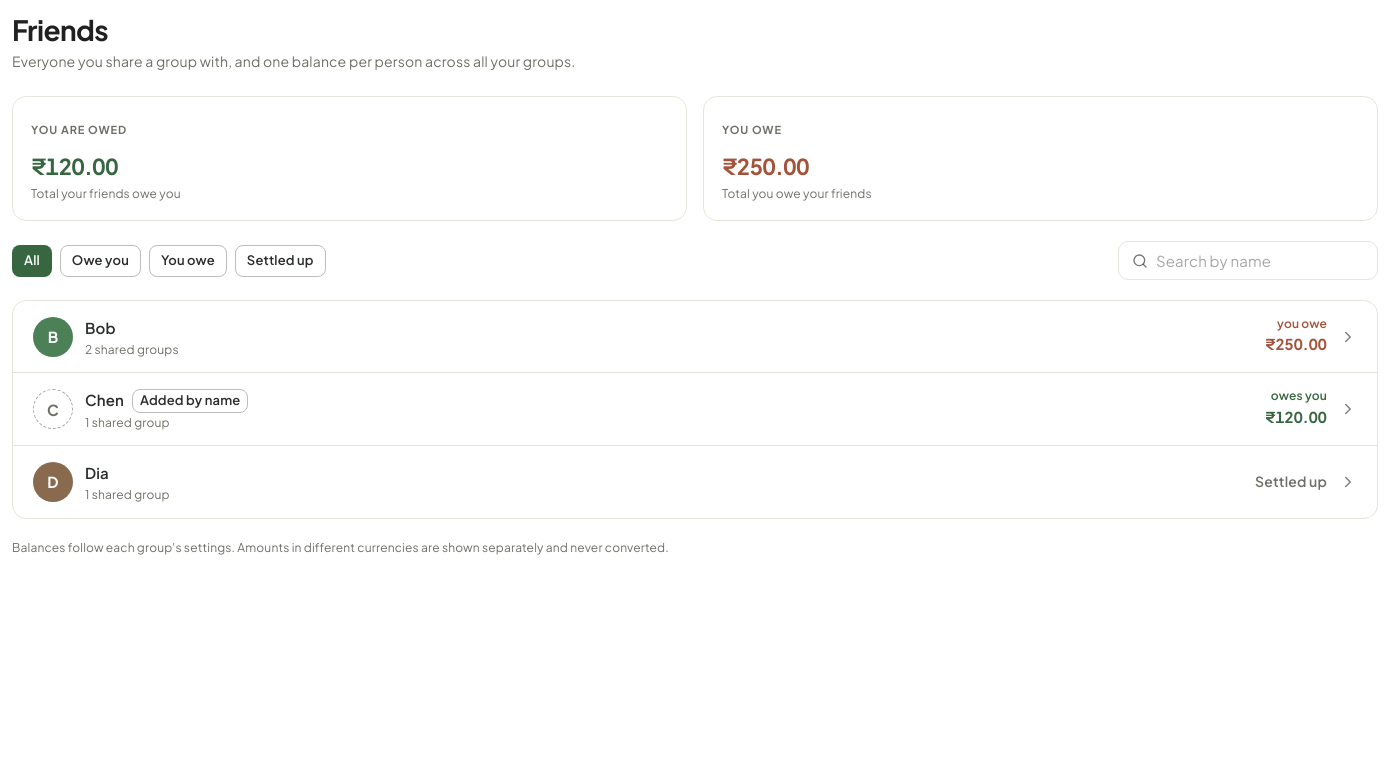
Test case: friends list › filters by balance direction and by name
The width and height of the screenshot is (1390, 780).
Click the button "Owe you" at coordinates (100, 260), box [60,244,141,276]
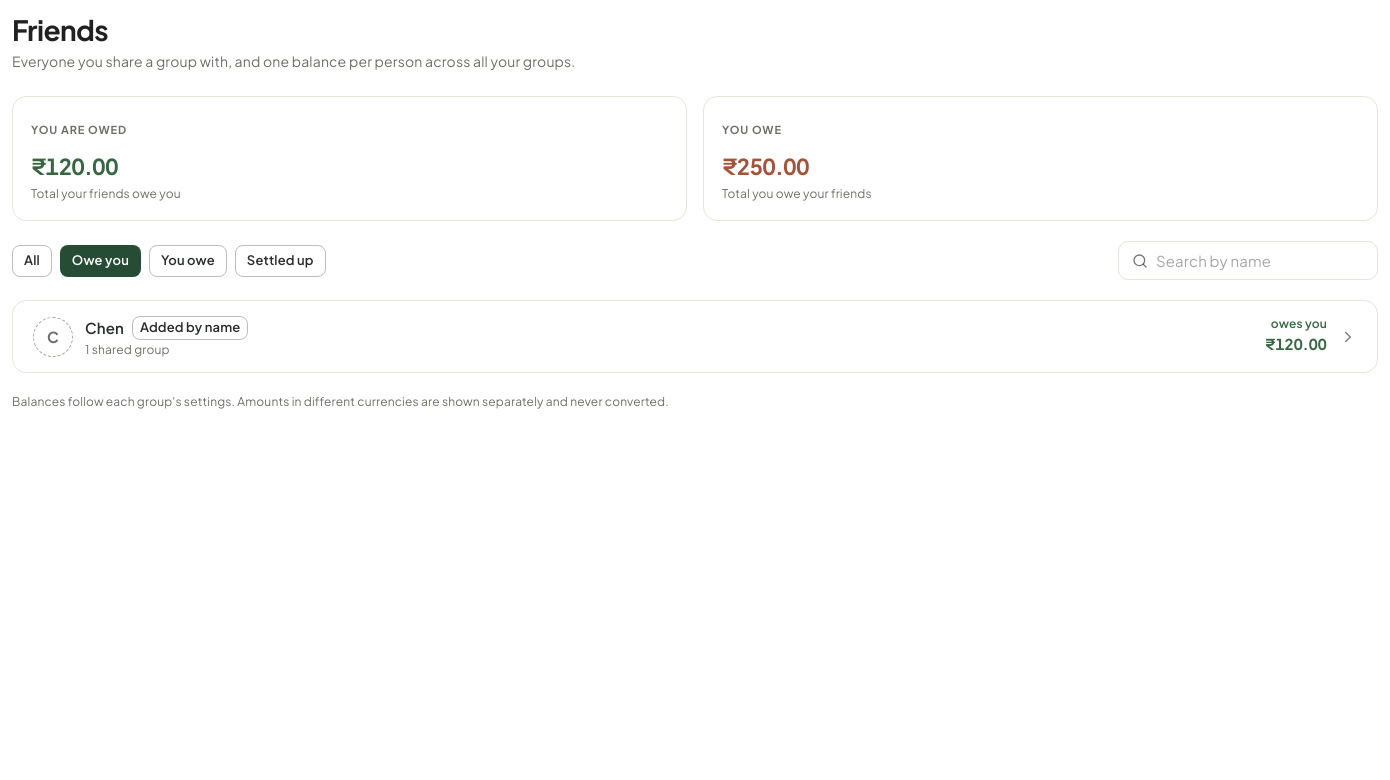
Click the button "Settled up" at coordinates (280, 260), box [235,244,326,276]
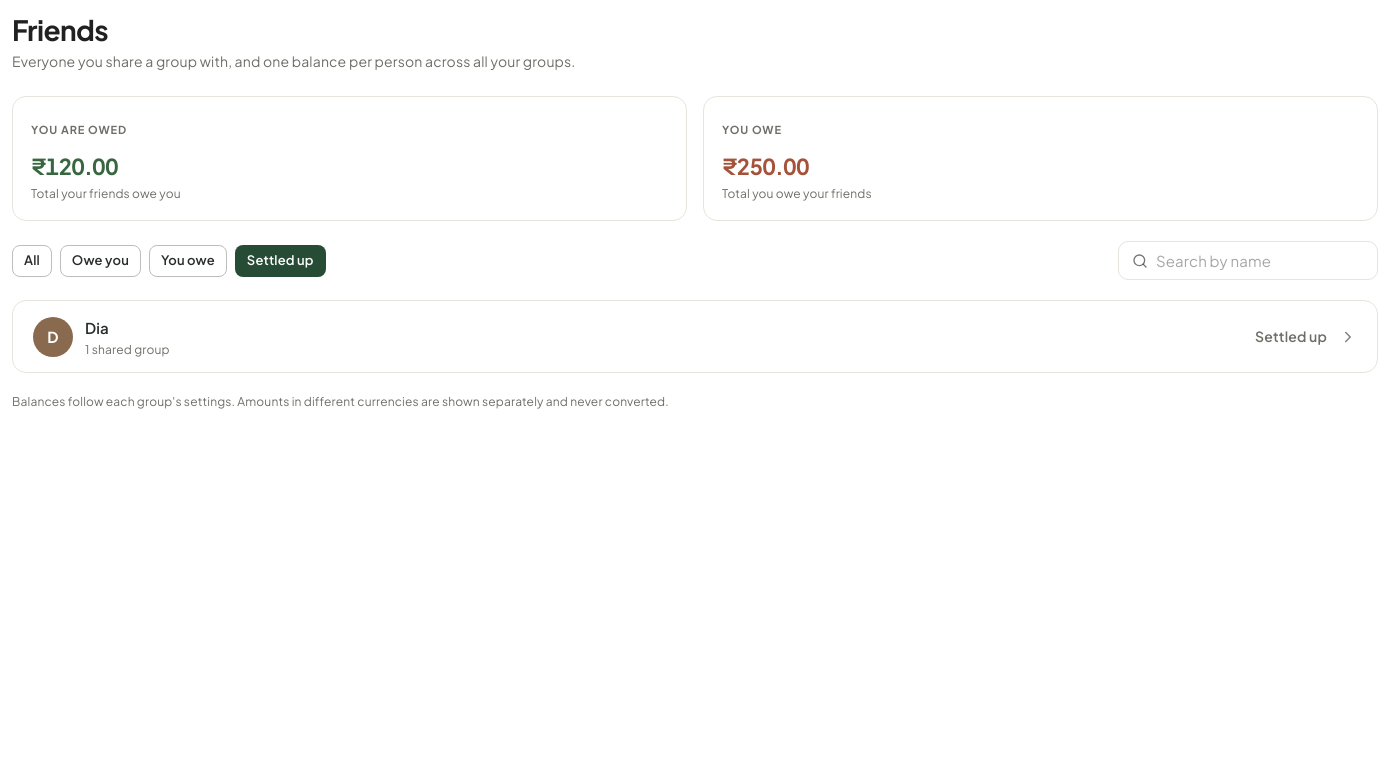
Expected: the number of links is 1, [33,317,1357,357]
Expected: the link shows "Dia", [33,317,1357,357]
Click the button "All" at coordinates (32, 260), box [12,244,52,276]
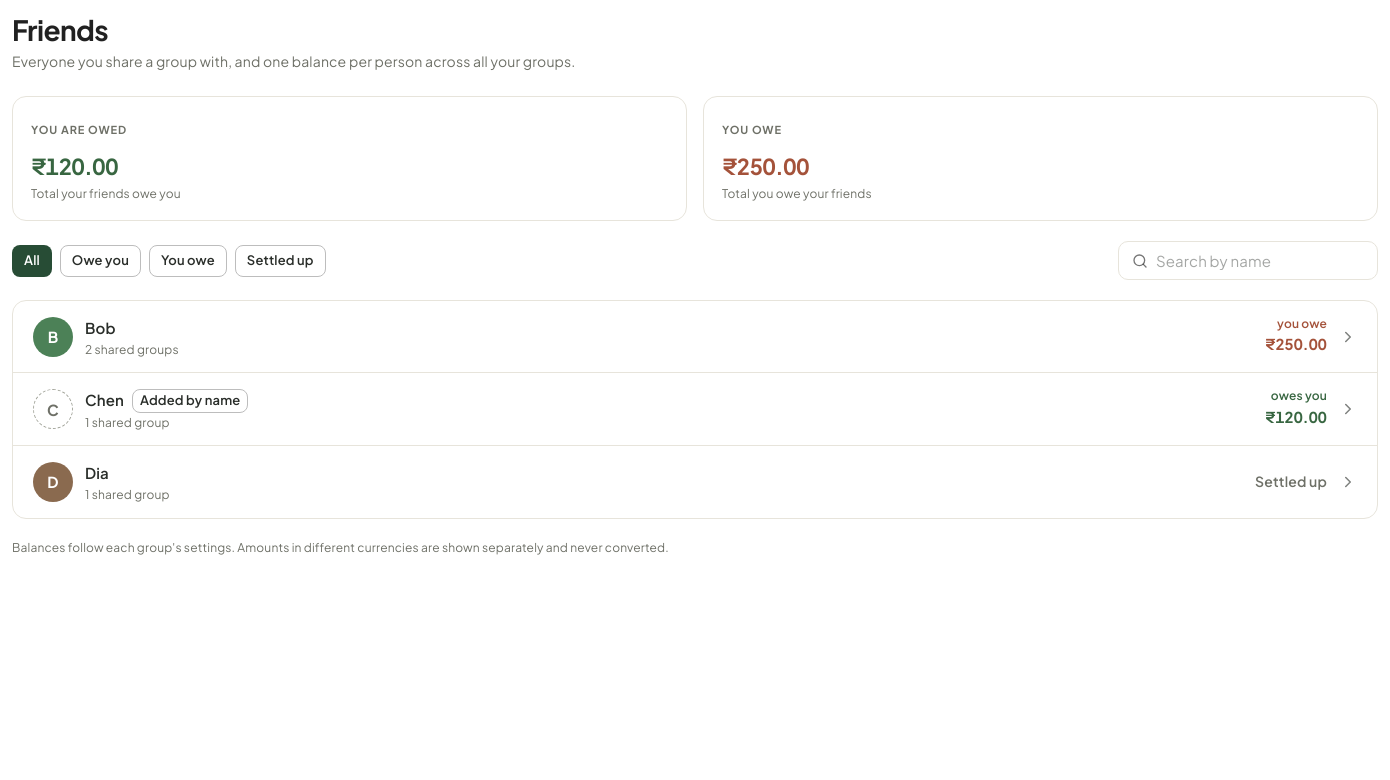
Type "bo" into the field named "Search friends by name" at coordinates (1267, 260), box [1156,241,1378,280]
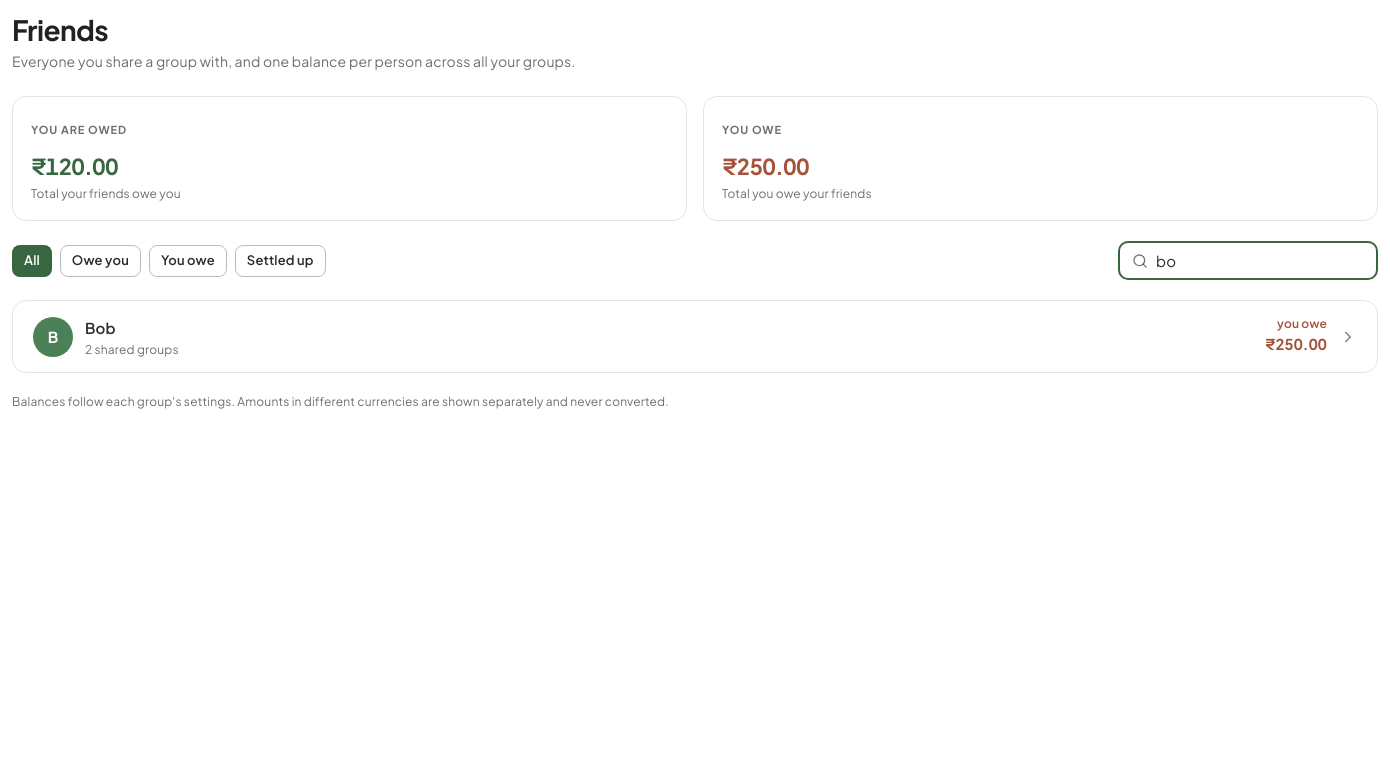
Expected: the link shows "Bob", [33,316,1357,357]
Expected: the number of links is 1, [33,316,1357,357]
